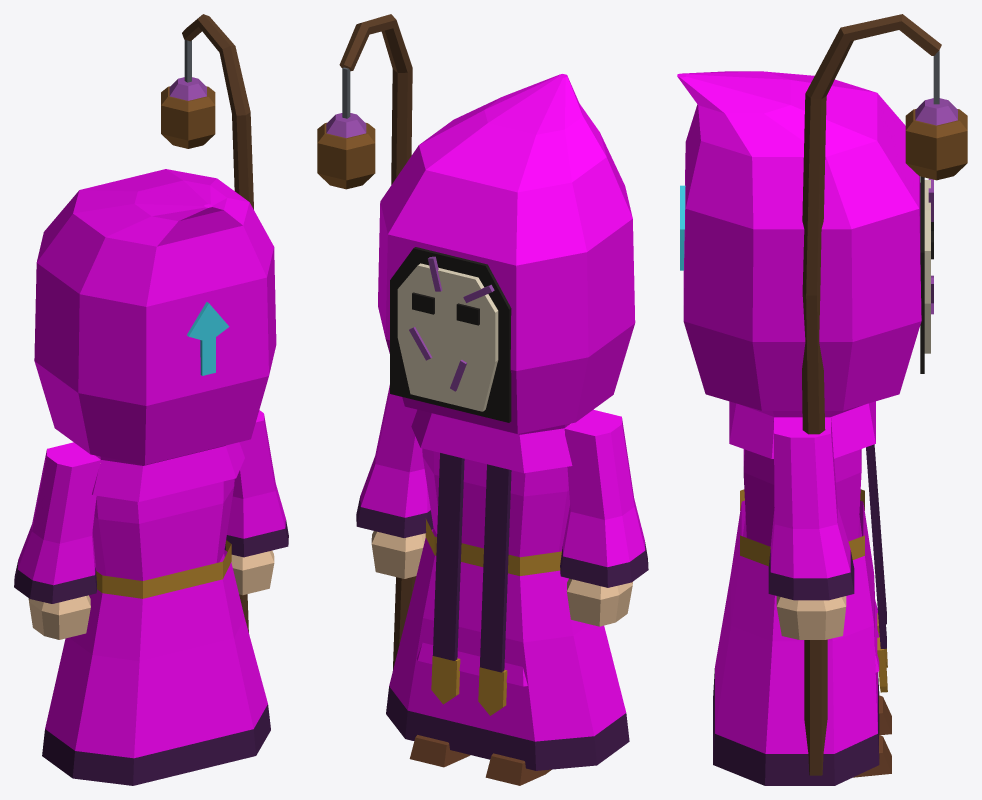
The model's file is CH_AshenOracle_VioletOracle.fbx.
3 views of the same model, side by side, from view 1: azimuth 30°, elevation 25°; view 2: azimuth 150°, elevation 25°; view 3: azimuth 270°, elevation 25° (orthographic). The views are drawn at different scales.
Parts seen in each view (by area): view 1: Head, Body, ArmR, ArmL; view 2: Head, Body, ArmR, ArmL, LegL, LegR; view 3: Head, Body, ArmR, LegR.
Part boxes in pixels (x1,y1,x2,y2): Head: (34, 169, 276, 464); Body: (42, 442, 270, 785); ArmR: (161, 14, 288, 632); ArmL: (14, 442, 100, 639); Head: (378, 74, 635, 433); Body: (386, 409, 629, 770); ArmR: (317, 14, 433, 669); ArmL: (560, 409, 648, 626); LegL: (485, 753, 551, 785); LegR: (409, 735, 470, 767); Head: (677, 71, 933, 410); Body: (713, 401, 887, 785); ArmR: (768, 14, 967, 775); LegR: (853, 735, 891, 777).
Bounding box in the file's own units: 0.7624 × 0.6493 × 1.93.
